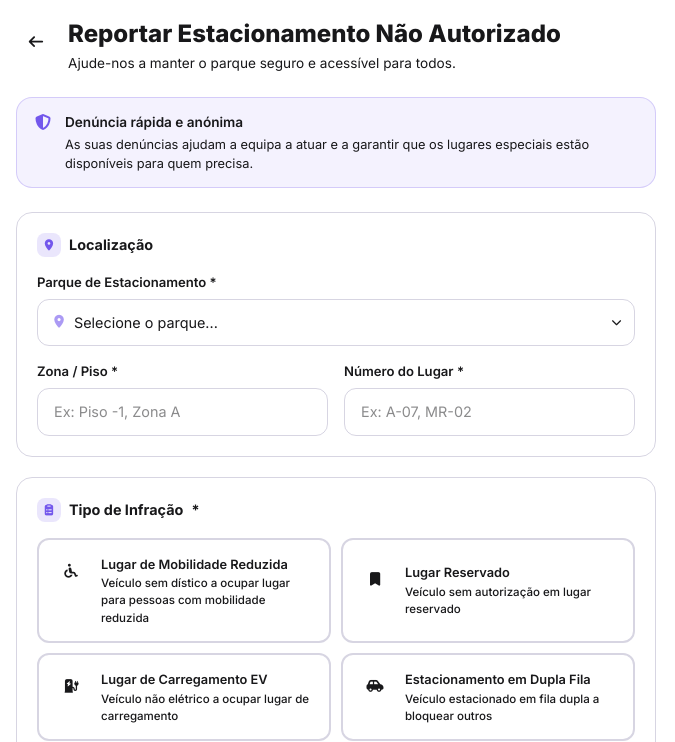
Test: ReportPage — Step1Form › submits valid form and shows confirmation
// Fill form
Step 1. Select "Parque Central — Aveiro" in the dropdown → (336, 322), box [37,299,635,346]
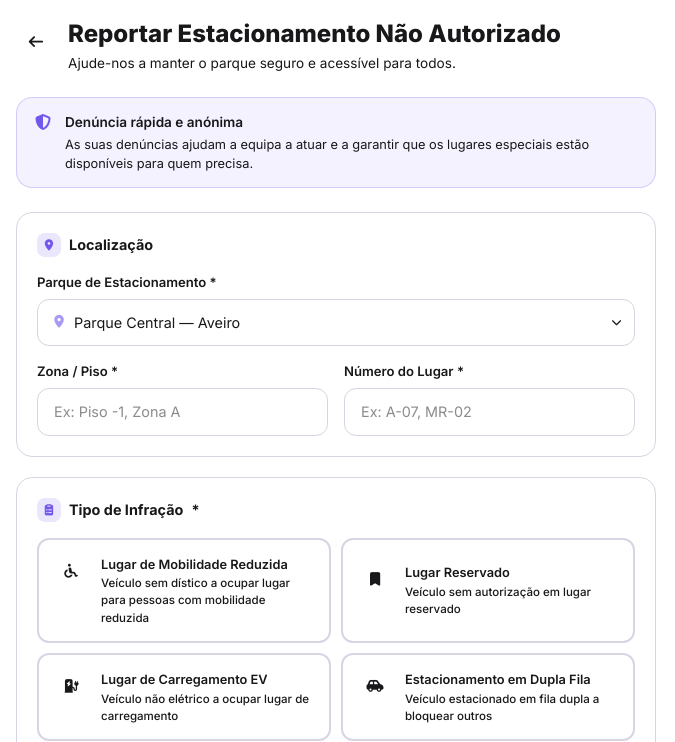
Step 2. Type "A" into the field with placeholder "Ex: Piso -1, Zona A" → (182, 412), box [37,388,328,436]
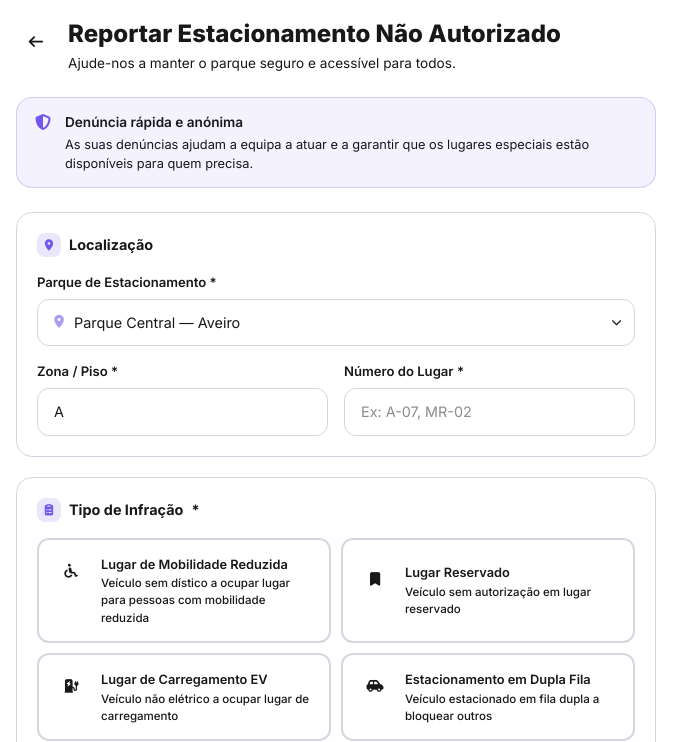
Step 3. Type "A-07" into the field with placeholder "Ex: A-07, MR-02" → (490, 412), box [344,388,635,436]
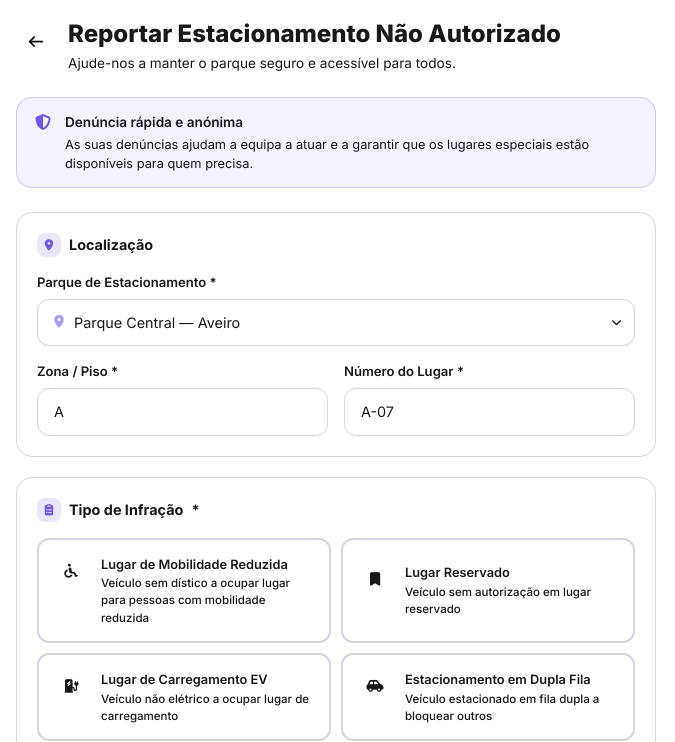
Step 4. Click the button "Lugar de Mobilidade Reduzida" → click(184, 590), box [37,538,331,643]
(page scrolled)
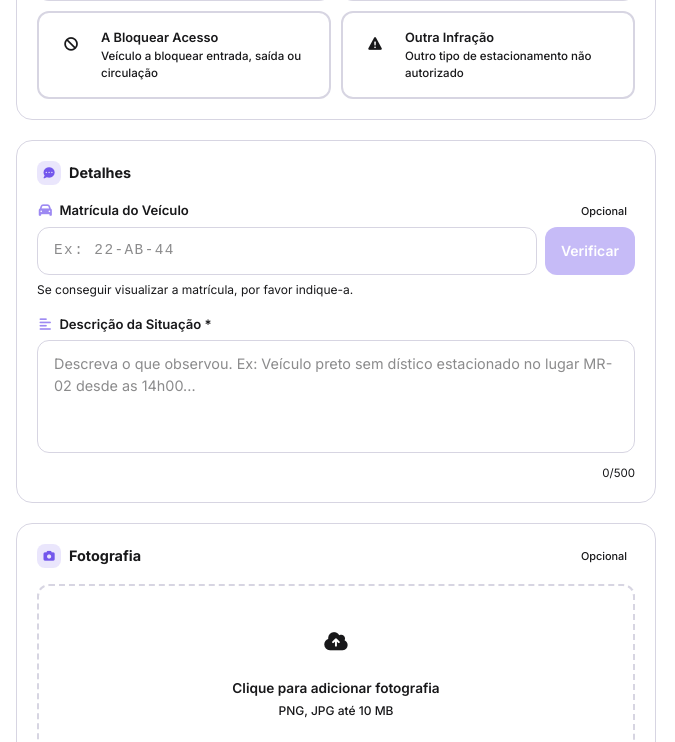
Step 5. Replace the text in the text box with placeholder "Descreva o que observou" with "Veículo sem dístico no lugar de mobilidade reduzida." → (336, 396), box [37,340,635,453]
(page scrolled)
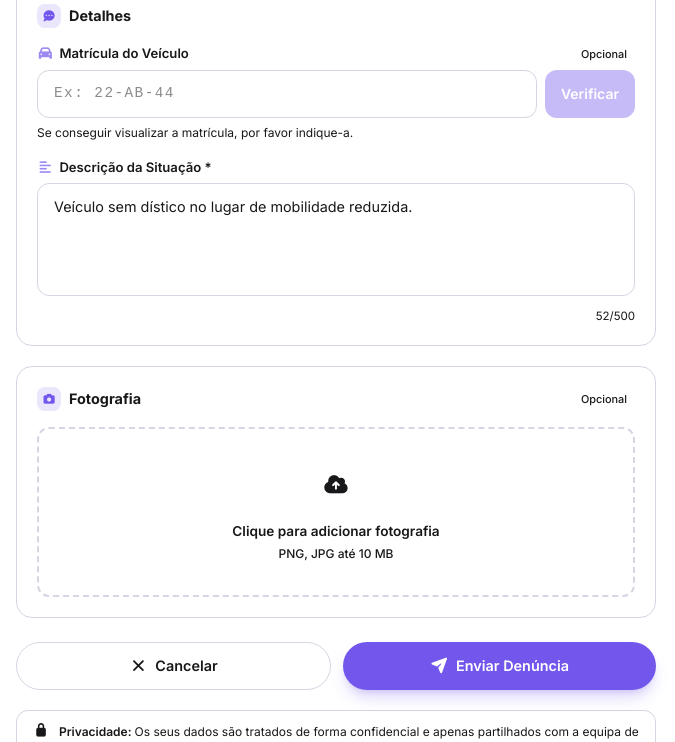
Step 6. Click the button "Enviar Denúncia" → click(500, 666), box [343,642,656,690]
(page scrolled)
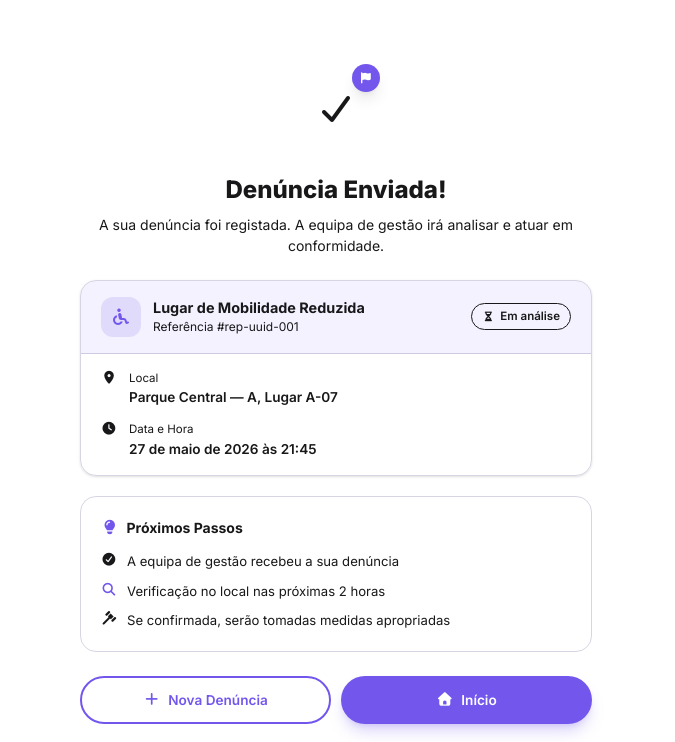
Check: the heading "Denúncia Enviada!" is shown, box [225,175,446,204]
